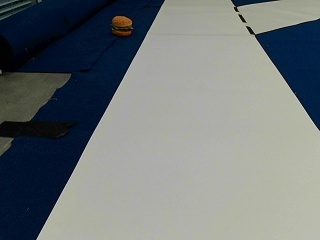burger: (111, 13, 133, 36)
